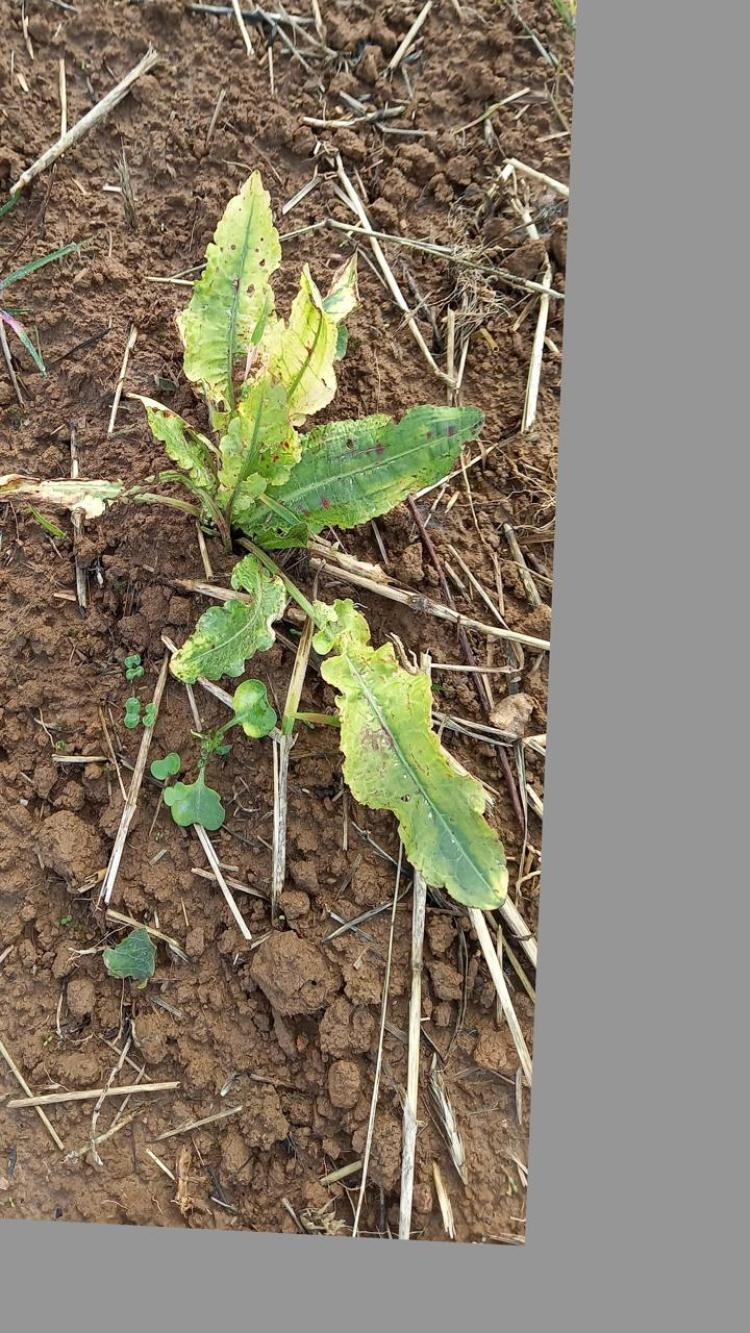zhavel: (129, 169, 504, 908)
